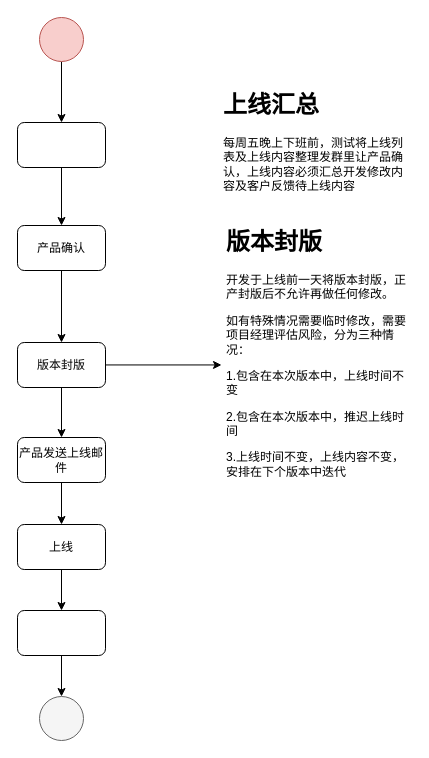
The diagram is 429 pixels wide and 758 high, and some of its shapes have lost their labels. Each missing label, with the box of its shape:
回归: (16, 610, 106, 656)
每周五汇总下周上线列表: (16, 122, 106, 168)
